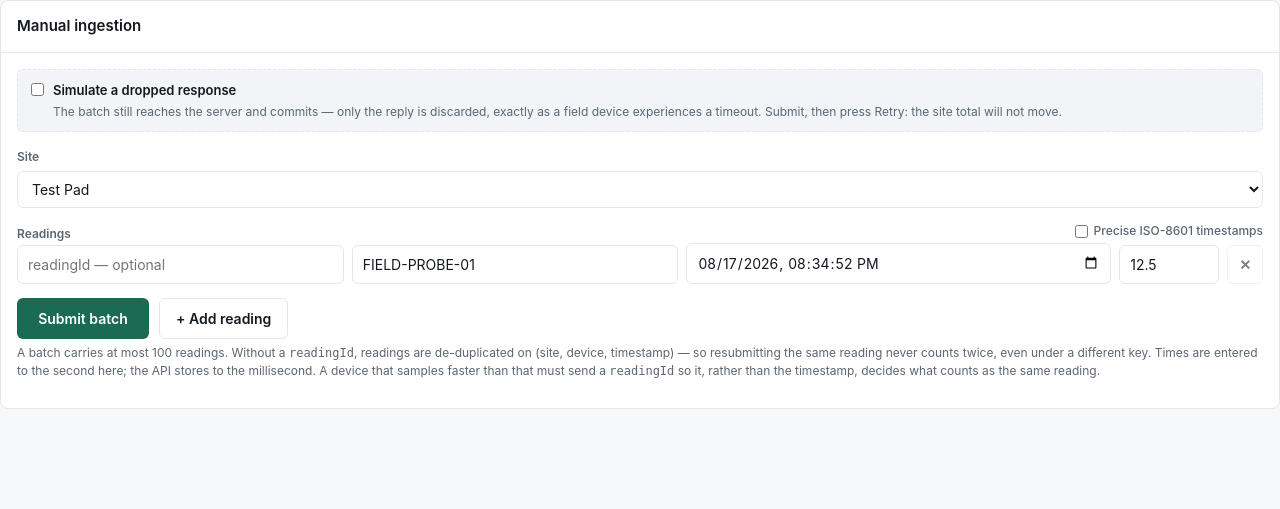
IngestForm › says nothing was stored when every reading was already present
The width and height of the screenshot is (1280, 509).
What coordinates should you click on to do the following:
click the button "Submit batch"
I would click on:
 (83, 318)
Its box is [17, 298, 149, 339].
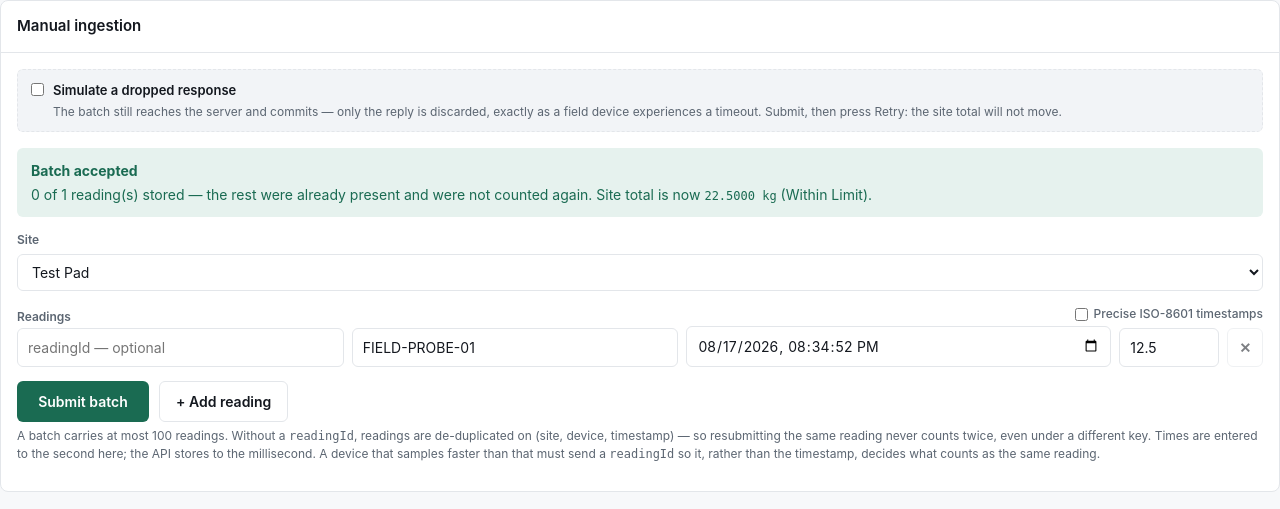
Result: the text "0 of 1" is shown at [17, 148, 1263, 217]
Result: the text "not counted again" is shown at [184, 186, 588, 203]
